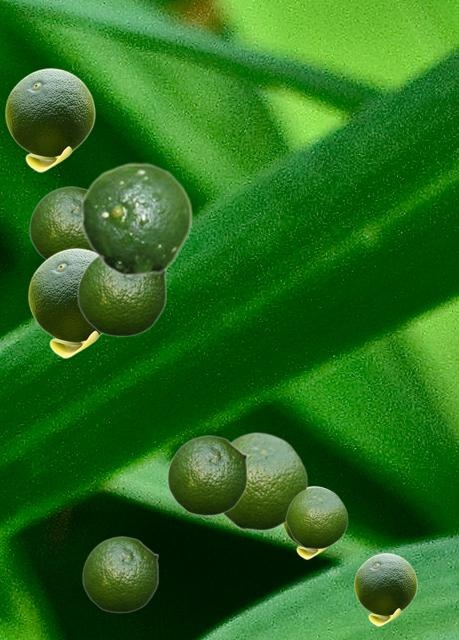calamansi: (80, 162, 192, 276), (5, 68, 94, 171), (222, 431, 307, 530), (28, 248, 101, 357), (77, 256, 166, 336), (167, 435, 247, 515), (82, 536, 158, 612), (354, 553, 416, 625), (29, 186, 90, 259), (285, 486, 347, 548), (283, 486, 326, 558)
